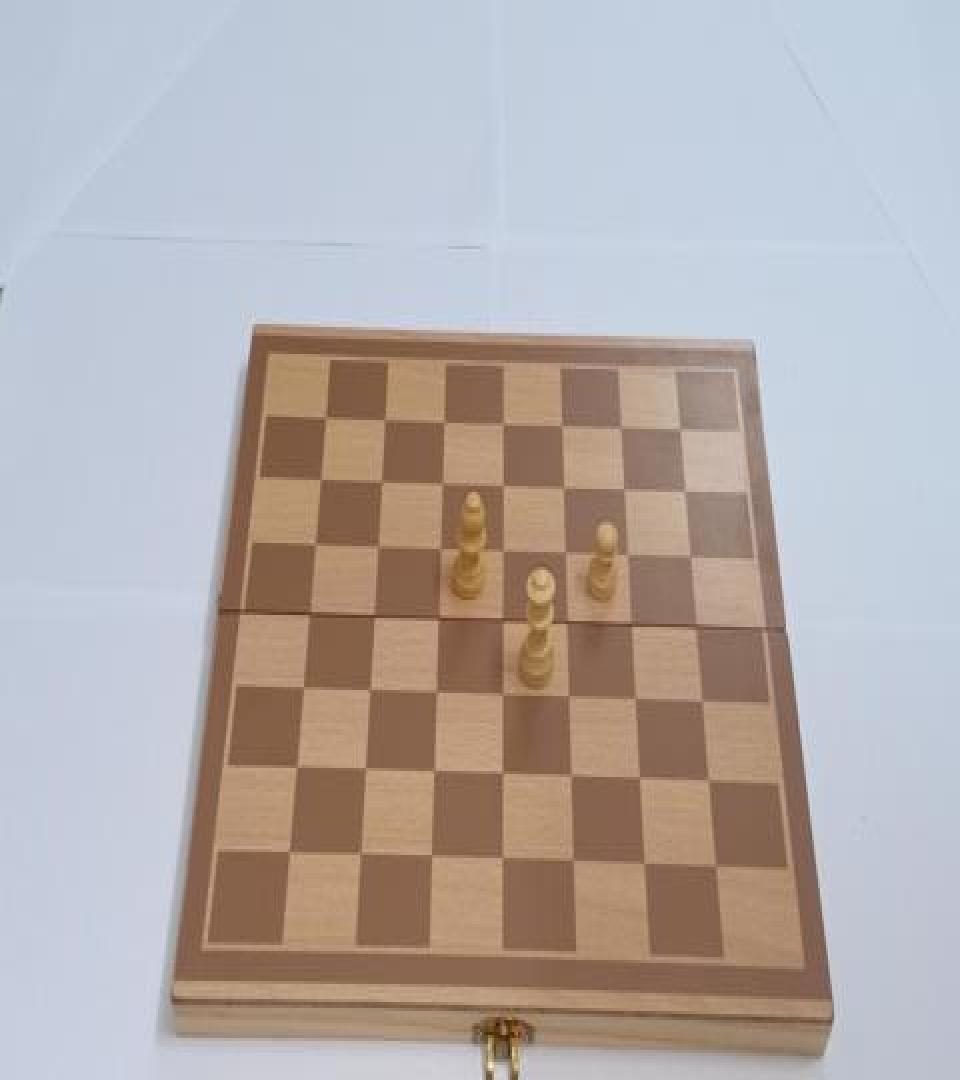xcorner: (375, 466, 393, 494), (438, 406, 456, 434), (497, 472, 515, 500), (556, 412, 574, 440), (319, 402, 337, 429), (313, 465, 331, 492), (308, 531, 326, 558), (296, 676, 314, 703), (282, 843, 300, 870), (378, 404, 396, 431), (371, 534, 389, 561), (367, 604, 385, 631), (359, 759, 377, 786), (354, 844, 372, 871), (436, 470, 454, 497), (432, 606, 450, 633), (430, 683, 448, 710), (428, 762, 446, 789), (497, 538, 515, 565), (497, 609, 515, 636), (497, 684, 515, 711), (497, 765, 515, 792), (497, 849, 515, 876), (558, 474, 576, 501), (562, 612, 580, 639), (564, 687, 582, 714), (566, 766, 584, 793), (568, 852, 586, 879), (615, 414, 633, 441), (619, 477, 637, 504), (622, 545, 640, 572), (626, 615, 644, 642), (630, 690, 648, 717), (639, 855, 657, 882), (674, 417, 692, 444), (679, 480, 697, 507), (685, 546, 703, 573), (690, 617, 708, 644), (703, 771, 721, 798), (710, 857, 728, 884), (302, 602, 320, 628), (289, 758, 307, 784), (363, 680, 381, 706), (434, 536, 452, 562), (426, 848, 444, 874), (497, 410, 515, 436), (560, 542, 578, 568), (635, 770, 653, 796), (697, 692, 715, 718)
